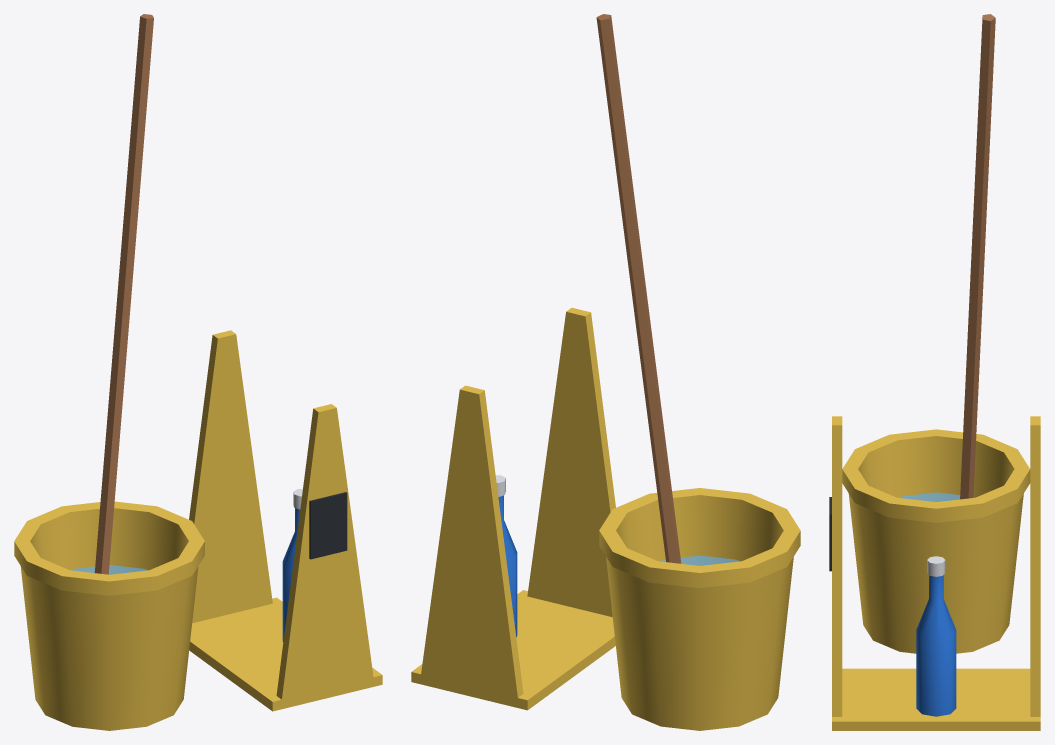
The model's file is cleaning_station.glb.
3 views of the same model, side by side, from view 1: azimuth 30°, elevation 25°; view 2: azimuth 150°, elevation 25°; view 3: azimuth 270°, elevation 25° (orthographic). The views are drawn at different scales.
Parts seen in each view (by area): view 1: cleaning_station; view 2: cleaning_station; view 3: cleaning_station.
Boxes of the visible parts, x1=… form: cleaning_station: x1=14, y1=14, x2=382, y2=730; cleaning_station: x1=411, y1=14, x2=800, y2=730; cleaning_station: x1=829, y1=14, x2=1040, y2=730.
Size of the model in its own units: 0.66 by 1.35 by 0.405.
